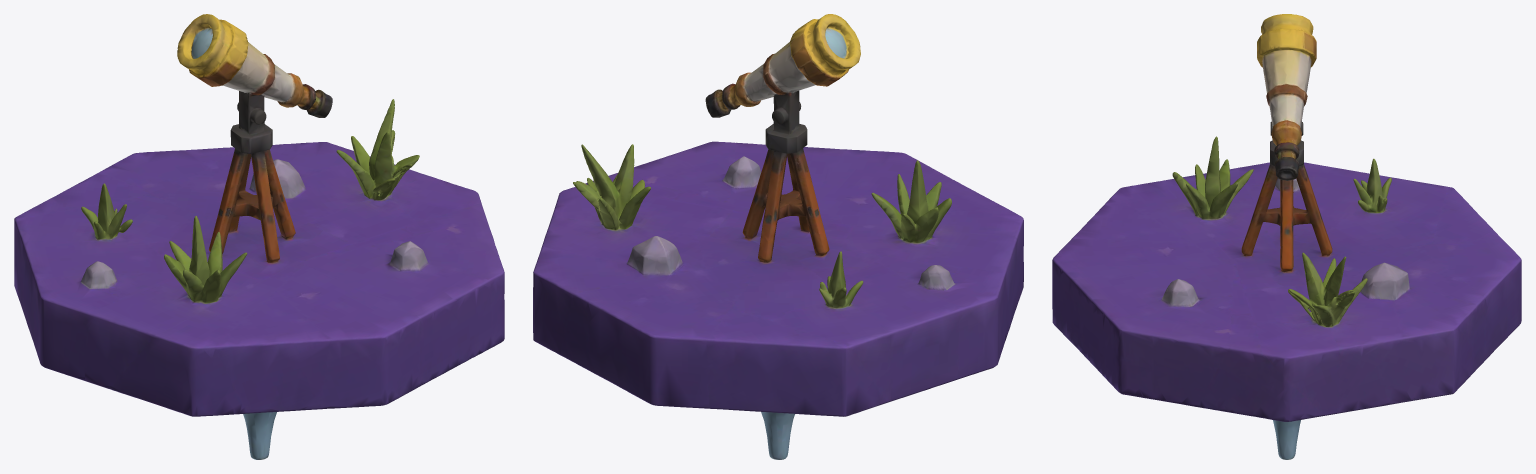
The model's file is starfield.glb.
The picture shows the model from 3 angles, left to right: view 1: azimuth 30°, elevation 25°; view 2: azimuth 150°, elevation 25°; view 3: azimuth 270°, elevation 25°; orthographic projection. The views are drawn at different scales.
Parts seen in each view (by area): view 1: tripo_node_5e985eb9-09e4-4224-9ed5-946c9b414fbc; view 2: tripo_node_5e985eb9-09e4-4224-9ed5-946c9b414fbc; view 3: tripo_node_5e985eb9-09e4-4224-9ed5-946c9b414fbc.
Boxes of the visible parts, <box> form: tripo_node_5e985eb9-09e4-4224-9ed5-946c9b414fbc: <box>14,14,504,459</box>; tripo_node_5e985eb9-09e4-4224-9ed5-946c9b414fbc: <box>533,14,1023,459</box>; tripo_node_5e985eb9-09e4-4224-9ed5-946c9b414fbc: <box>1052,14,1521,459</box>.
Bounding box in the file's own units: 0.9998 × 0.9913 × 0.9989.
Materials: 1 (1 with a texture image).
